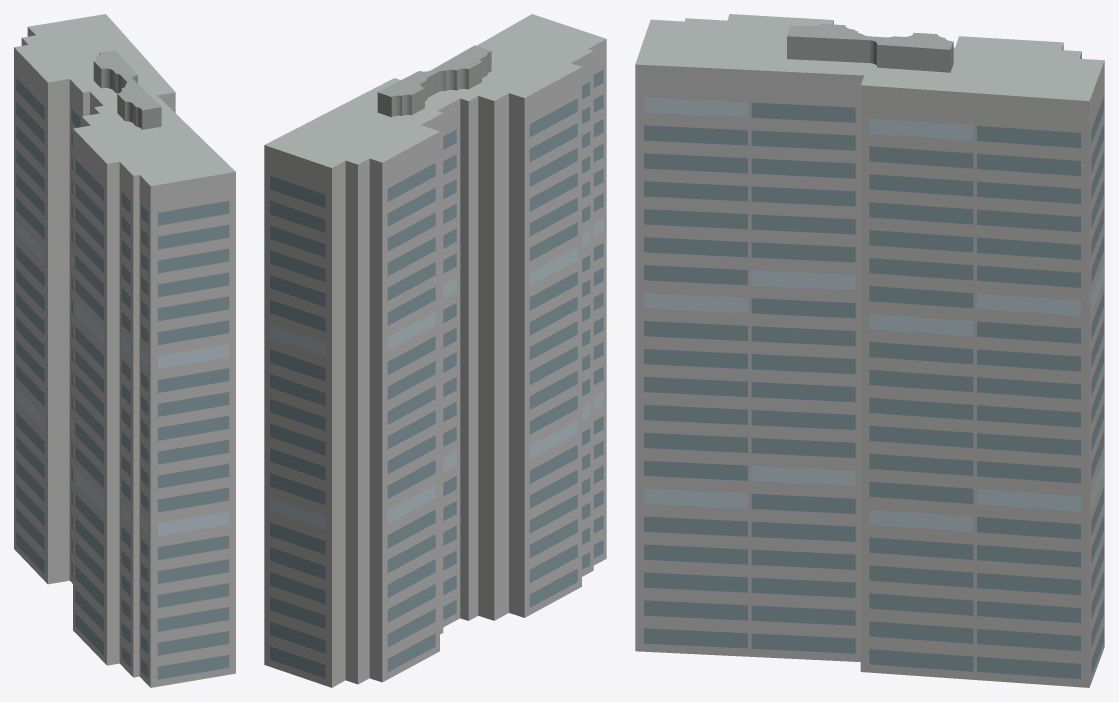
Rendered from fallback-gaepo-raemian-forest-127.glb.
3 views of the same model, side by side, from view 1: azimuth 30°, elevation 25°; view 2: azimuth 150°, elevation 25°; view 3: azimuth 270°, elevation 25° (orthographic). The views are drawn at different scales.
Parts seen in each view (by area): view 1: fallback-gaepo-raemian-forest-127; view 2: fallback-gaepo-raemian-forest-127; view 3: fallback-gaepo-raemian-forest-127.
Part boxes in pixels (left/top/right/bottom): fallback-gaepo-raemian-forest-127: left=14, top=14, right=235, bottom=687; fallback-gaepo-raemian-forest-127: left=264, top=14, right=606, bottom=687; fallback-gaepo-raemian-forest-127: left=635, top=14, right=1104, bottom=687.
Size of the model in its own units: 19.63 by 64 by 44.67.
